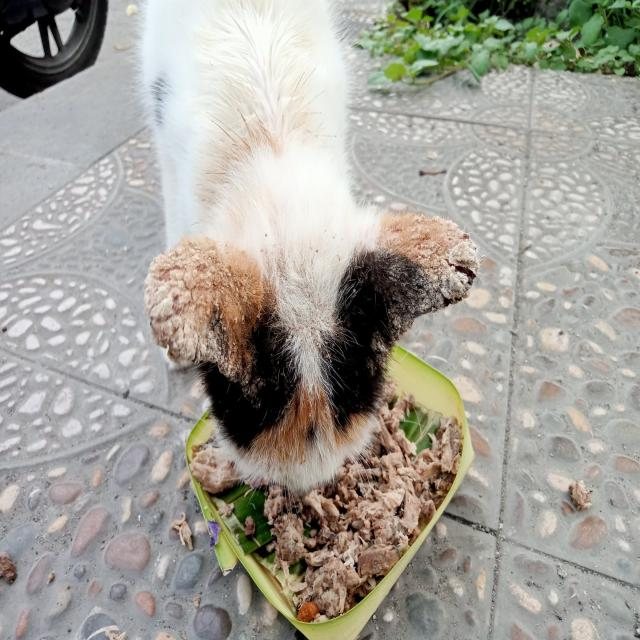cat-scabies: (141, 232, 264, 386), (369, 207, 483, 339)
